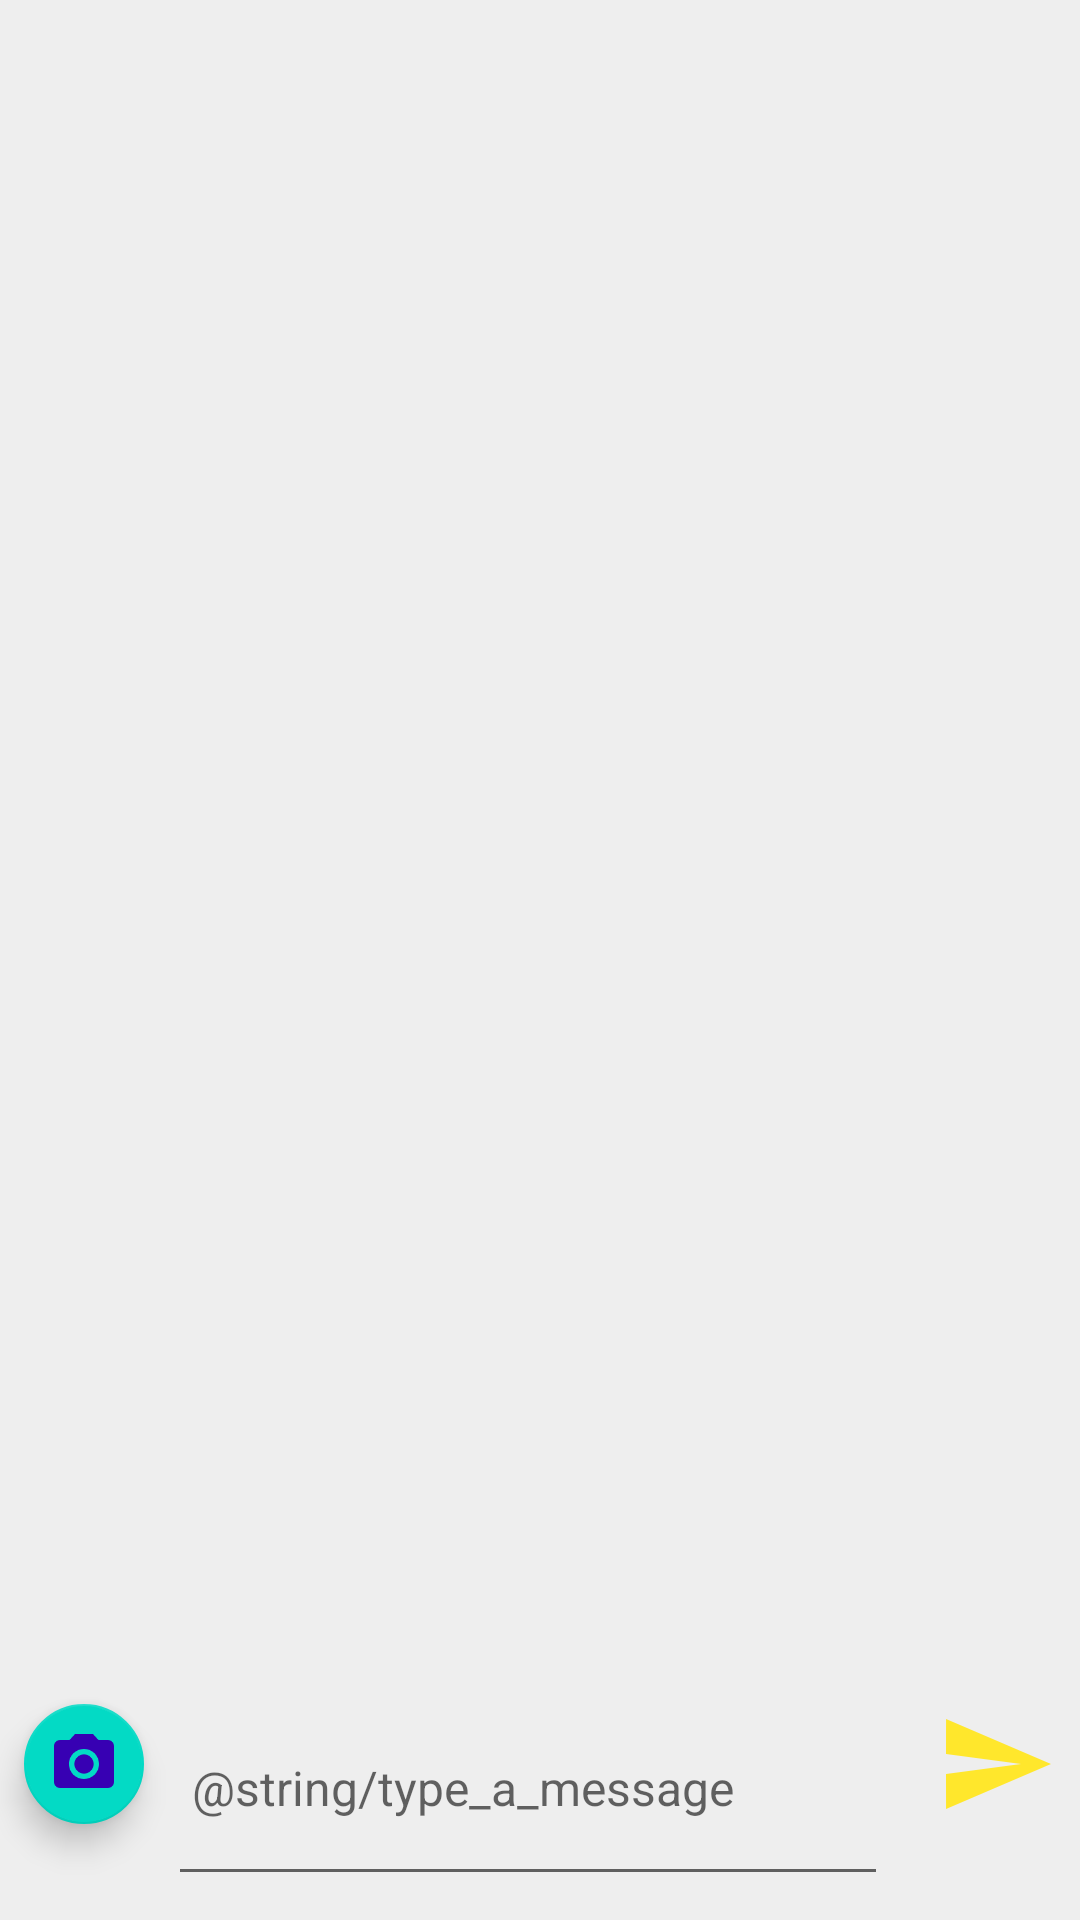

Named icons in this screenshot (1080 x 1920) and their centers, [x,y]:
camera: [84,1764]
send: [998,1764]
